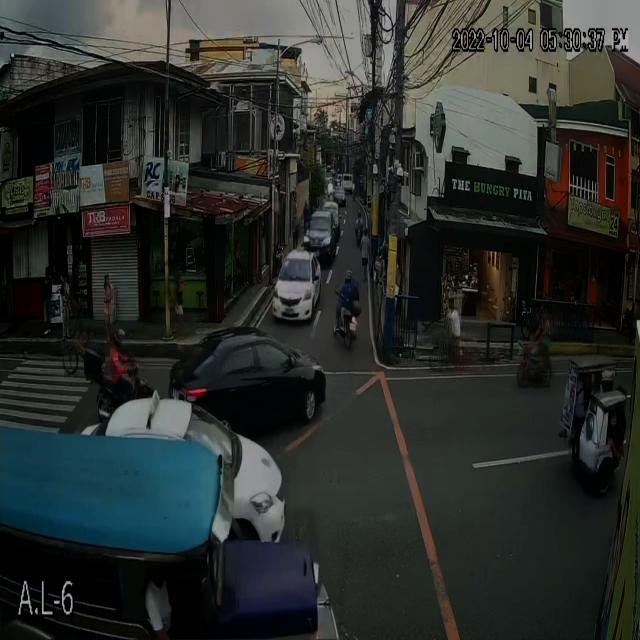Full-Faced: (111, 328, 124, 352), (350, 279, 364, 297), (354, 206, 365, 226), (342, 271, 349, 280)
